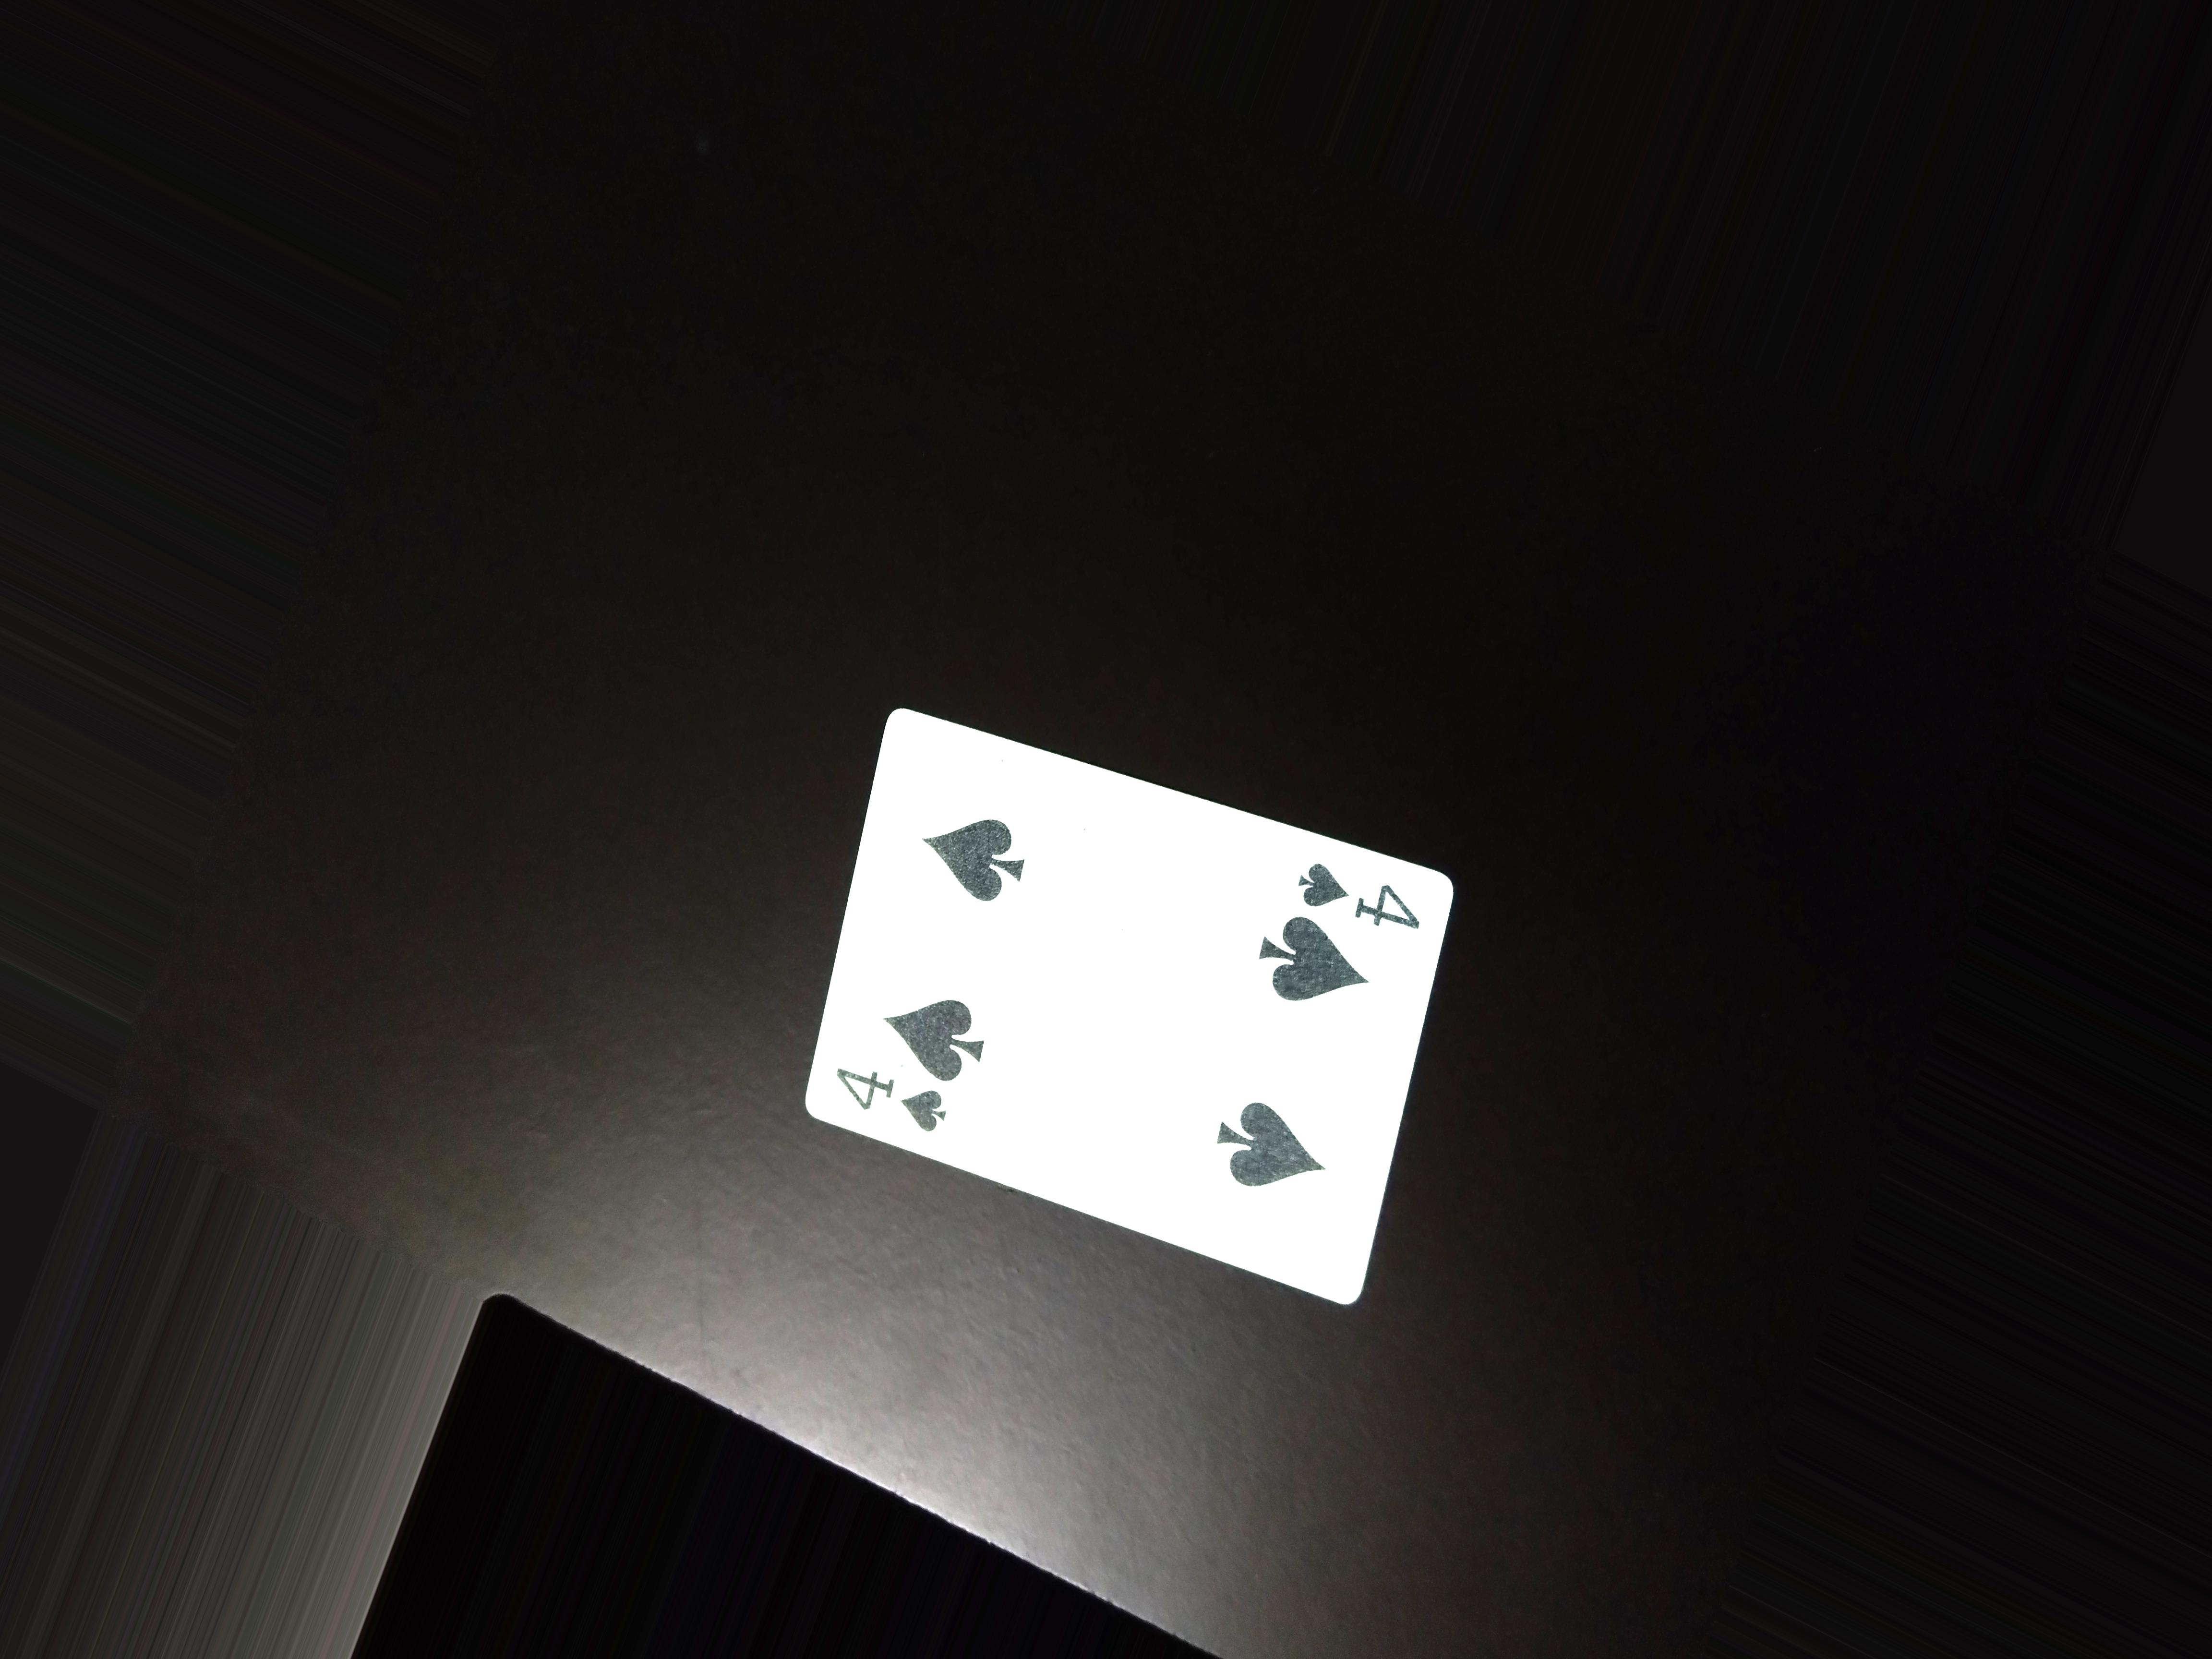4S: (1280, 856, 1423, 938)
